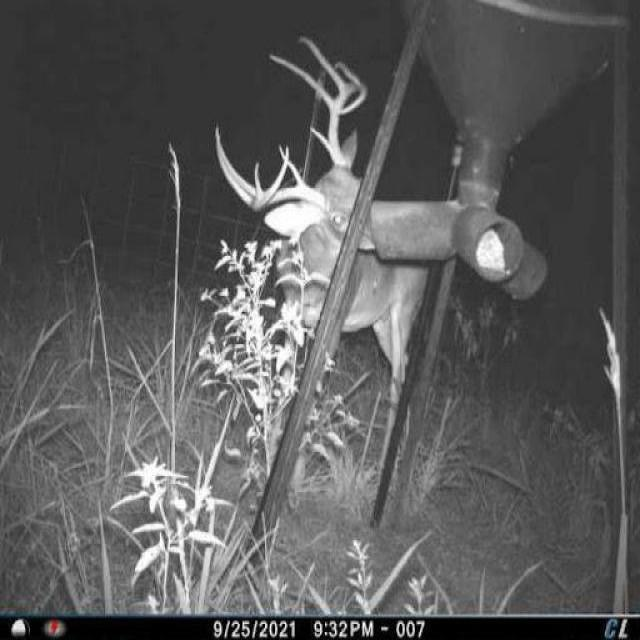deer: (207, 25, 448, 507)
